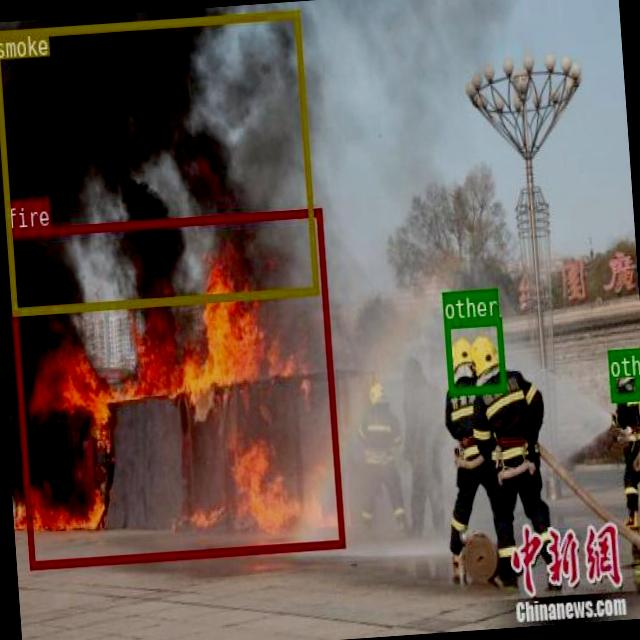fire: (6, 208, 344, 568)
smoke: (0, 8, 317, 313)
